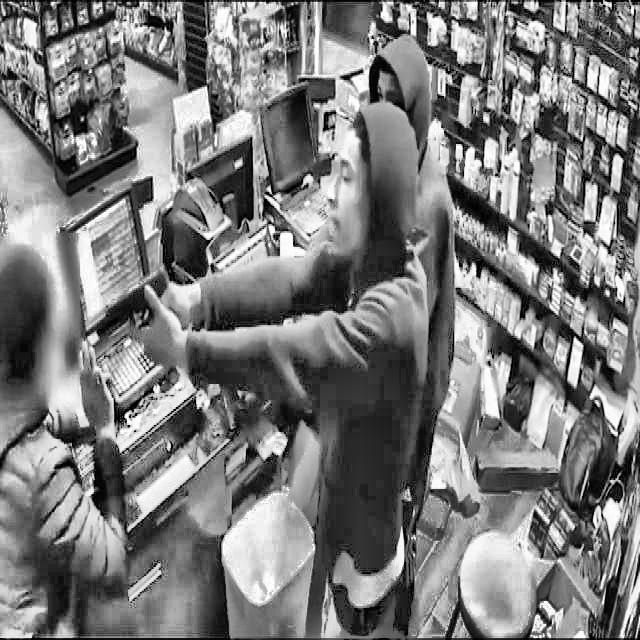robbery: (0, 30, 471, 639)
